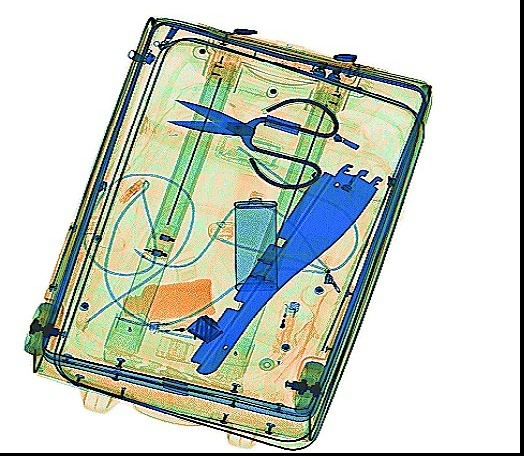lighter: (270, 297, 301, 356), (147, 315, 197, 334)
scissors: (164, 95, 338, 190)
zippooil: (232, 195, 279, 292)
